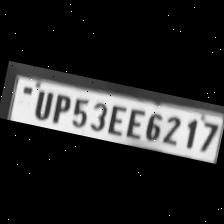1: (177, 114, 200, 150)
2: (158, 110, 184, 146)
3: (86, 97, 108, 132)
5: (65, 93, 92, 129)
6: (140, 108, 164, 142)
7: (193, 118, 219, 154)
E: (104, 101, 128, 137), (122, 104, 146, 139)
P: (47, 90, 72, 127)
U: (27, 86, 54, 122)
